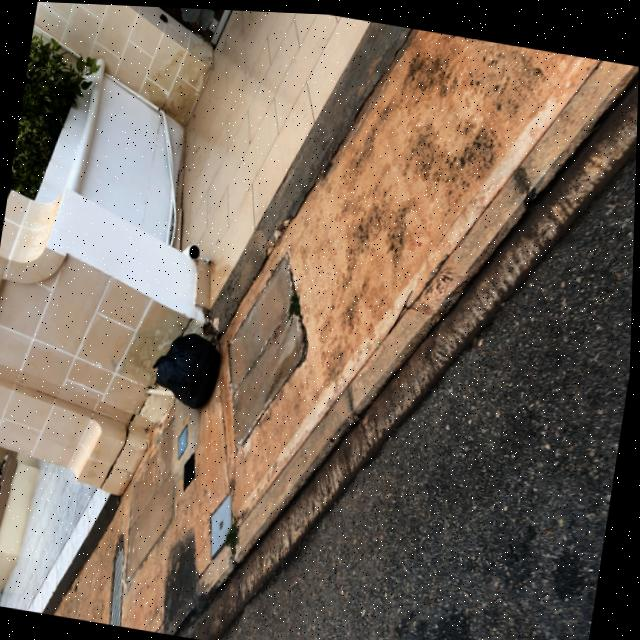Mixed Waste -Black Bag-: (153, 326, 226, 410)
